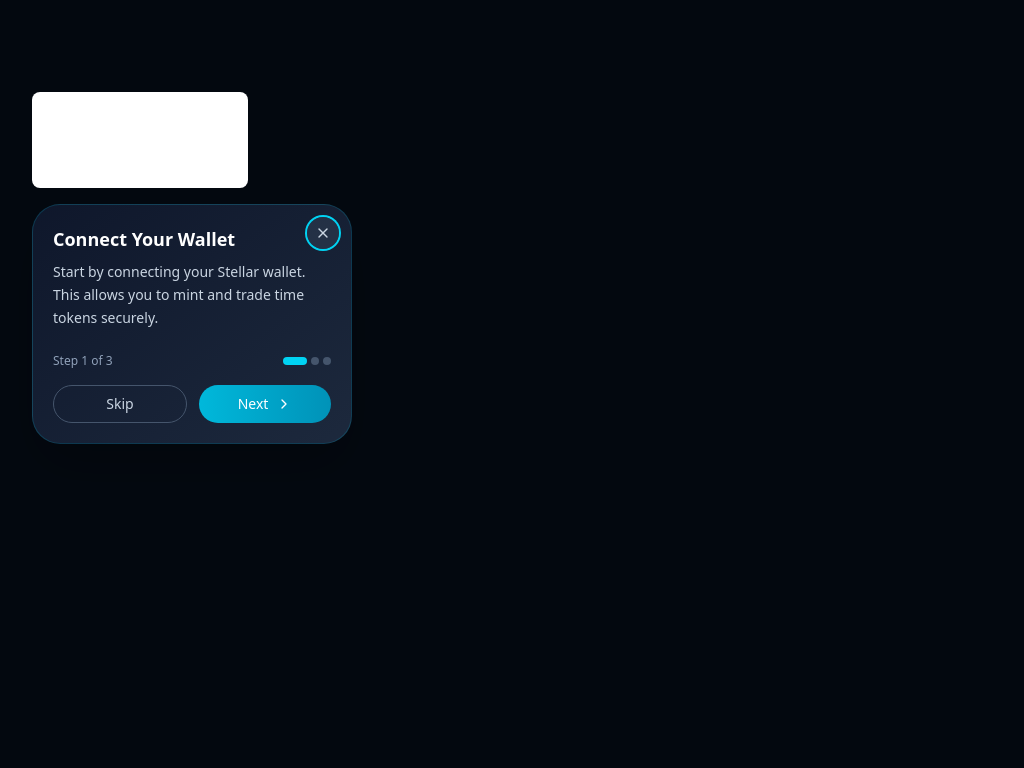
Scenario: OnboardingTour failure paths (#980) › keyboard and step-index boundaries › marks exactly one progress dot as current and moves the marker
What coordinates should you click on to do the following:
click the button named "Go to step"
I would click on:
 (327, 361)
Its box is left=323, top=357, right=331, bottom=365.
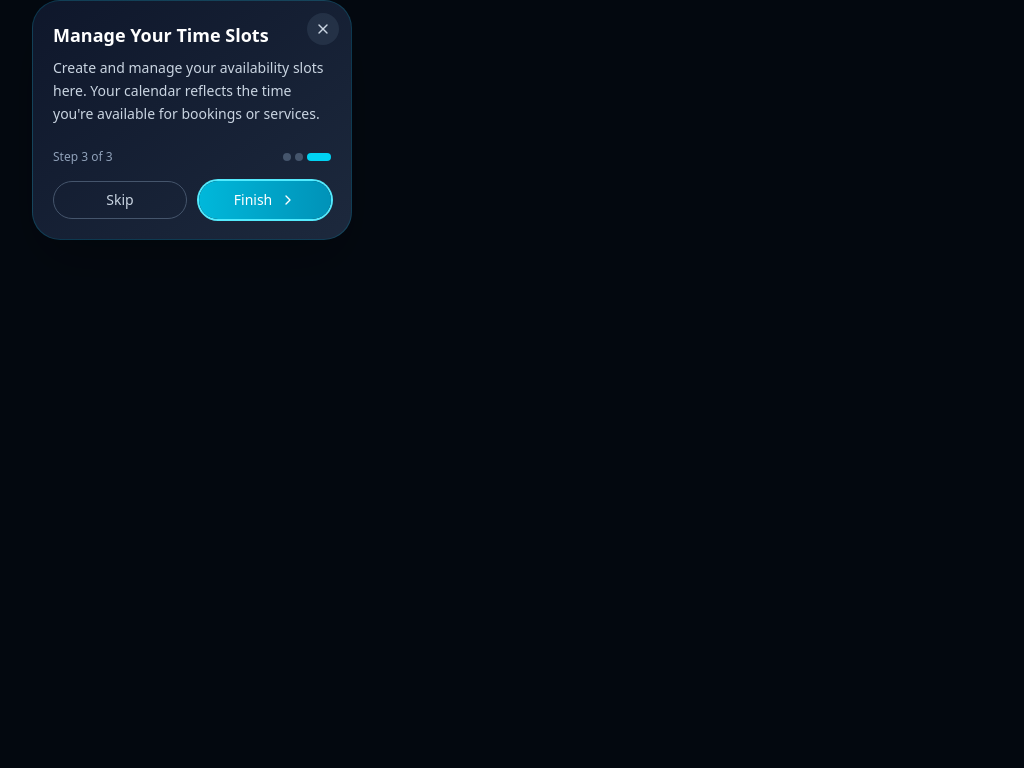
Expected: the text "Step 3 of 3" is shown, left=53, top=149, right=113, bottom=165
